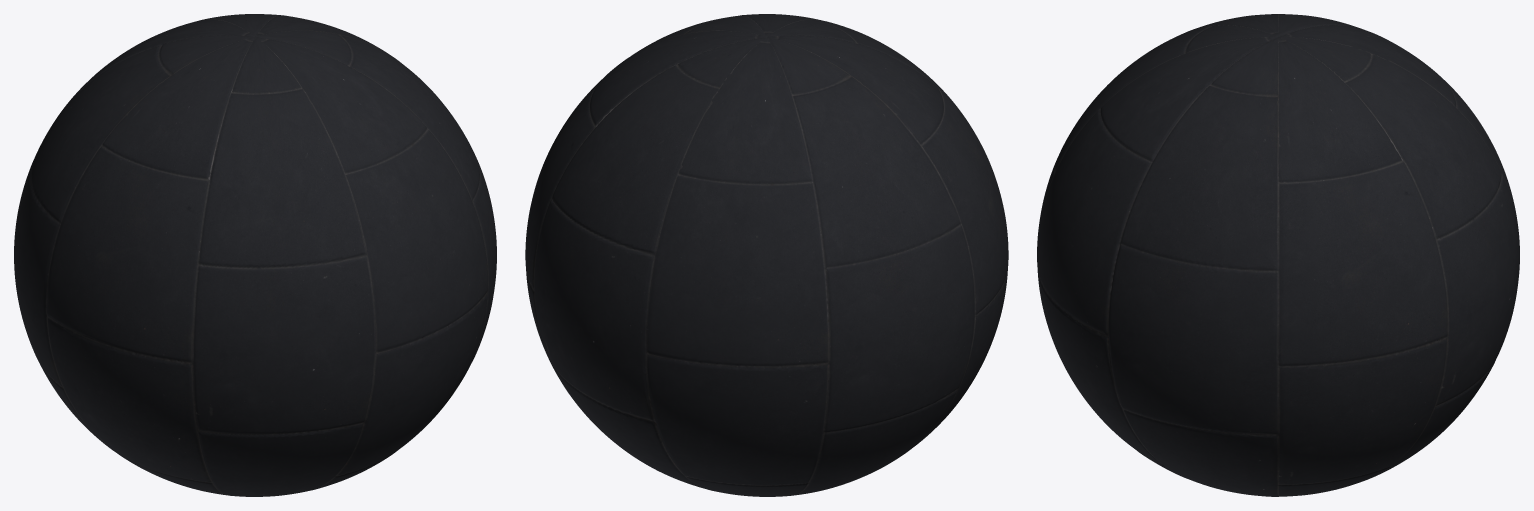
The model's file is rubber_tiles_2k.gltf.
3 views of the same model, side by side, from view 1: azimuth 30°, elevation 25°; view 2: azimuth 150°, elevation 25°; view 3: azimuth 270°, elevation 25° (orthographic).
Visible parts, largest first — view 1: sphere_gltf; view 2: sphere_gltf; view 3: sphere_gltf.
Part boxes in pixels (x1,y1,x2,y2): sphere_gltf: (14,14,496,496); sphere_gltf: (525,14,1008,496); sphere_gltf: (1037,14,1519,496).
Size of the model in its own units: 2.02 by 2.02 by 2.02.
1 material, 1 textured.
